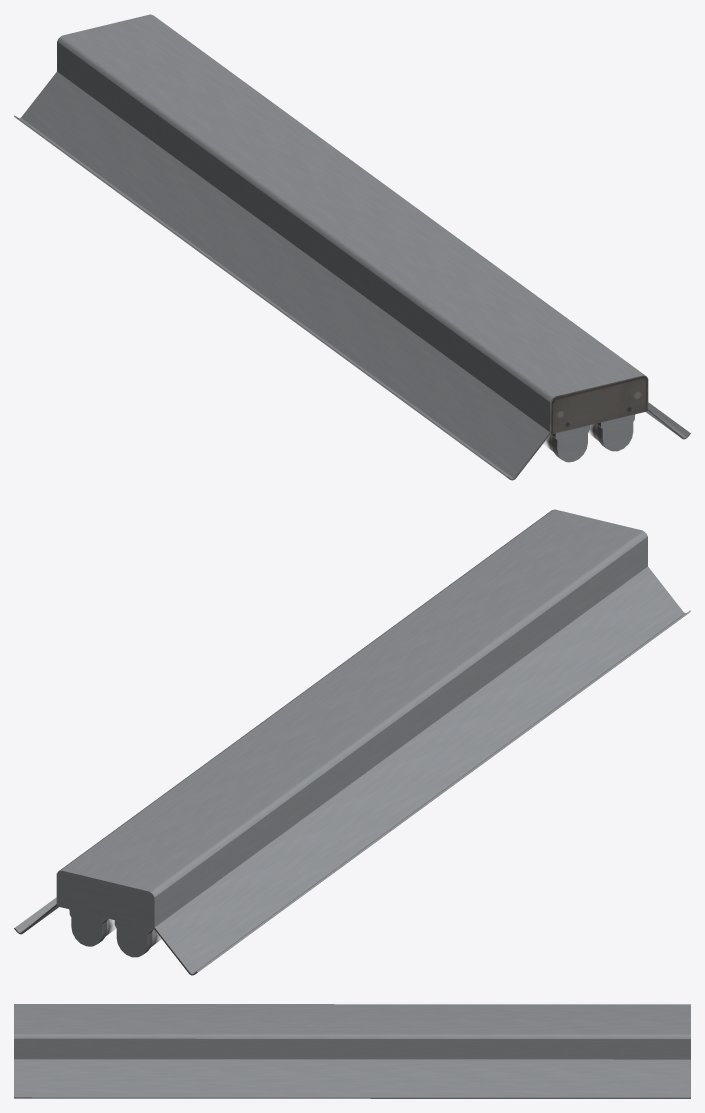
Rendered from SM_Lamp_01.fbx.
The picture shows the model from 3 angles, top to bottom: view 1: azimuth 30°, elevation 25°; view 2: azimuth 150°, elevation 25°; view 3: azimuth 270°, elevation 25°; orthographic projection. The views are drawn at different scales.
Visible parts, largest first — view 1: SM_Lamp_01; view 2: SM_Lamp_01; view 3: SM_Lamp_01.
Boxes of the visible parts, <box> form: SM_Lamp_01: <box>14,14,690,480</box>; SM_Lamp_01: <box>14,509,690,975</box>; SM_Lamp_01: <box>14,1004,690,1098</box>.
Size of the model in its own units: 32.32 by 150 by 12.53.
1 material, 1 textured.
